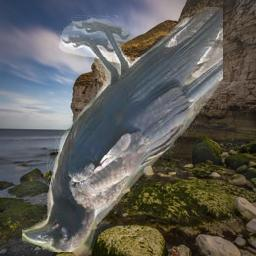Crow: (23, 8, 224, 253)
